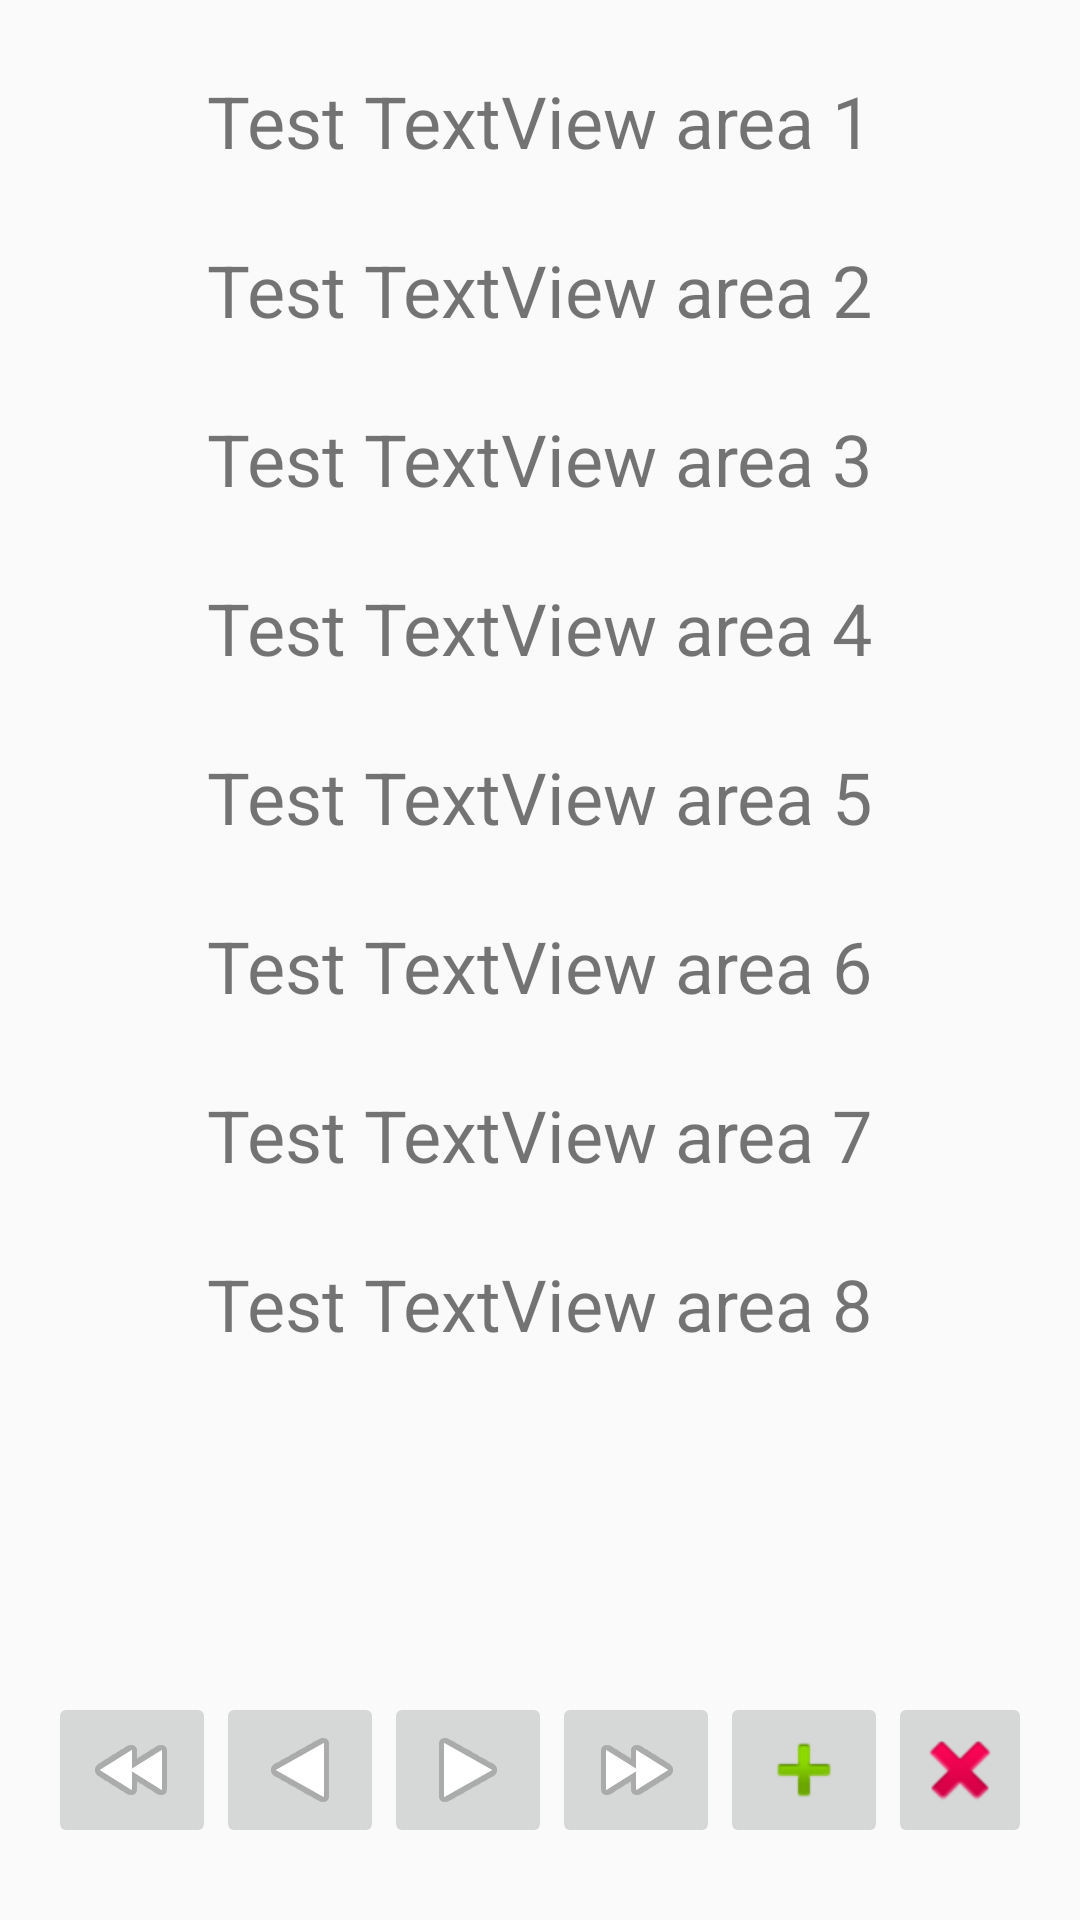

Named icons in this screenshot (1080 × 1920) and their bounding boxes, [x1=x1, y1=y1, x2=x2, y2=y2]:
Delete Record: [x1=900, y1=1710, x2=1020, y2=1830]
First Record: [x1=60, y1=1710, x2=204, y2=1830]
New Record: [x1=732, y1=1710, x2=876, y2=1830]
Next Record: [x1=396, y1=1710, x2=540, y2=1830]
